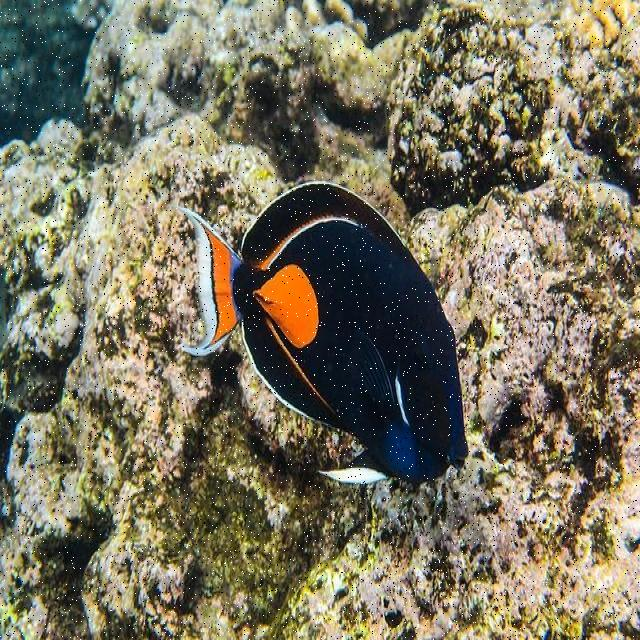fish: (173, 185, 469, 491)
